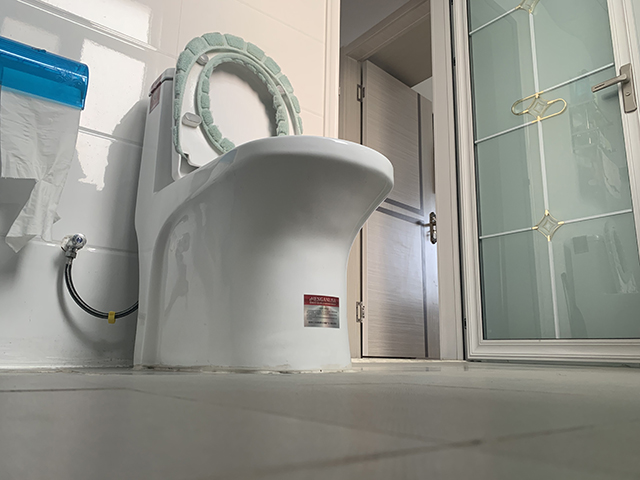closestool: (133, 32, 396, 375)
